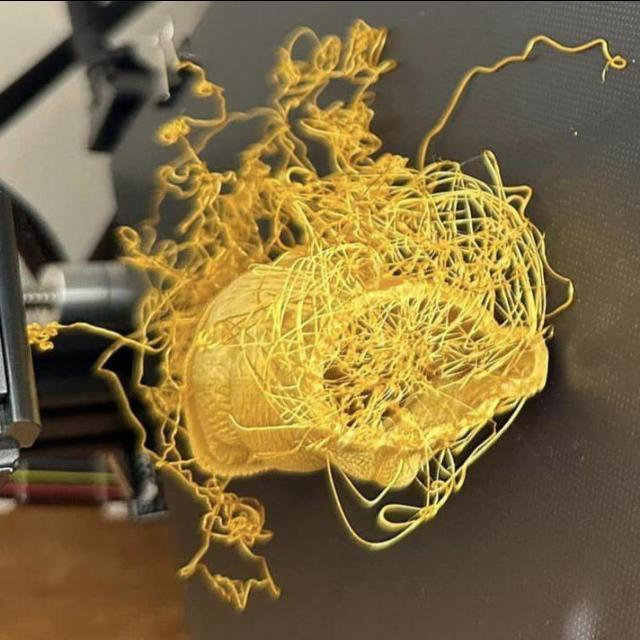spaghetti: (354, 176, 512, 322), (267, 21, 391, 152), (125, 178, 216, 318), (242, 158, 348, 272), (323, 309, 454, 397), (373, 425, 467, 525), (191, 498, 281, 600), (162, 91, 268, 140), (146, 364, 192, 466)
